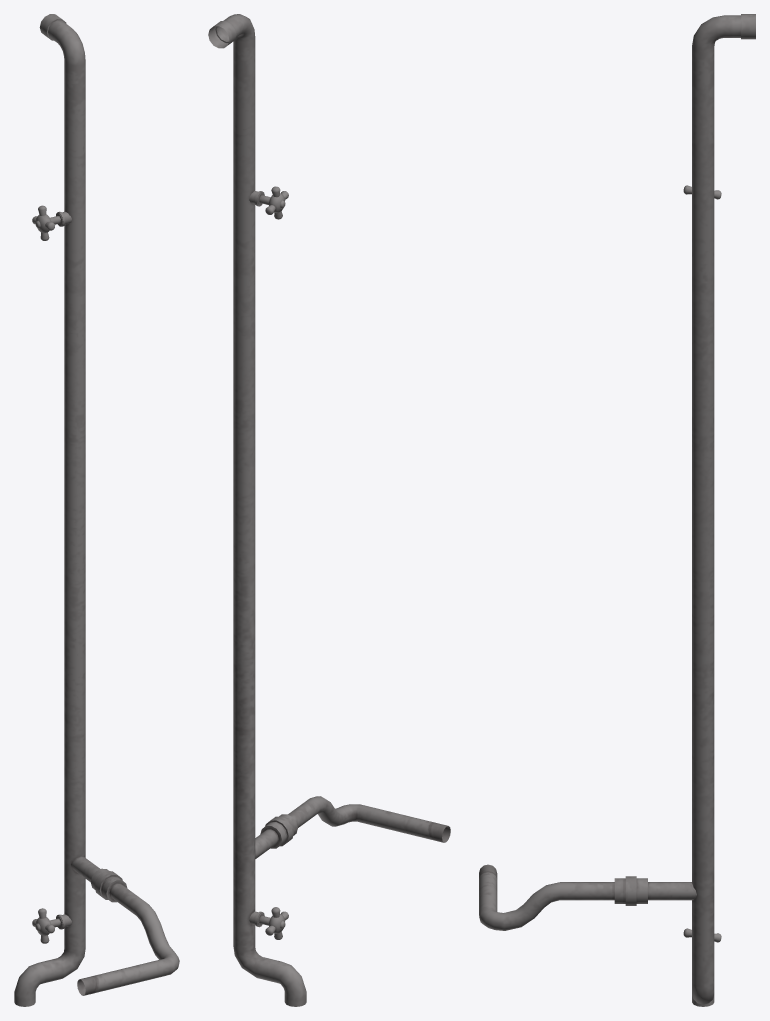
File: SM_Toilet_Pipe.fbx
3 views of the same model, side by side, from view 1: azimuth 30°, elevation 25°; view 2: azimuth 150°, elevation 25°; view 3: azimuth 270°, elevation 25° (orthographic). The views are drawn at different scales.
Visible parts, largest first — view 1: SM_Toilet_Pipe; view 2: SM_Toilet_Pipe; view 3: SM_Toilet_Pipe.
Boxes of the visible parts, bbox=[...] form: SM_Toilet_Pipe: bbox=[14, 14, 179, 1006]; SM_Toilet_Pipe: bbox=[208, 14, 450, 1006]; SM_Toilet_Pipe: bbox=[479, 14, 755, 1006].
Bounding box in the file's own units: 26.31 × 55.42 × 224.
Materials: 1 (1 with a texture image).
